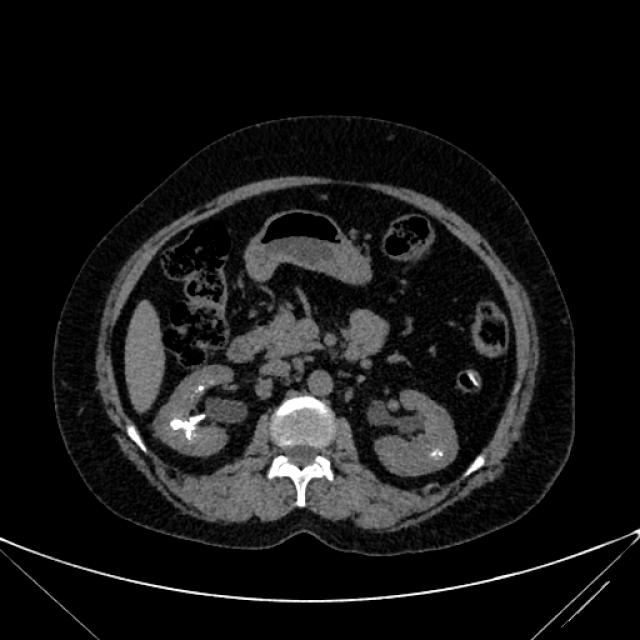kidney: (150, 358, 252, 459), (364, 383, 461, 484)
stone: (185, 410, 209, 434), (170, 415, 186, 430), (193, 380, 207, 394), (434, 449, 445, 457)
